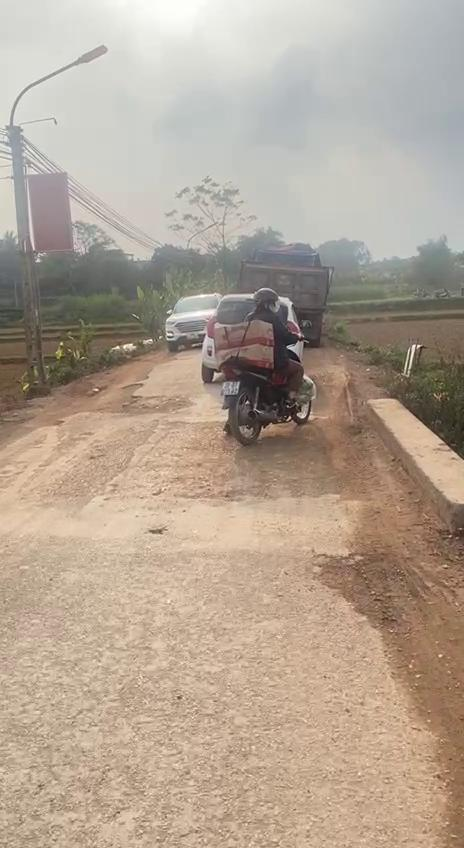pothole: (322, 549, 408, 634), (91, 380, 195, 417)
